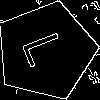L: (21, 26, 75, 69)
